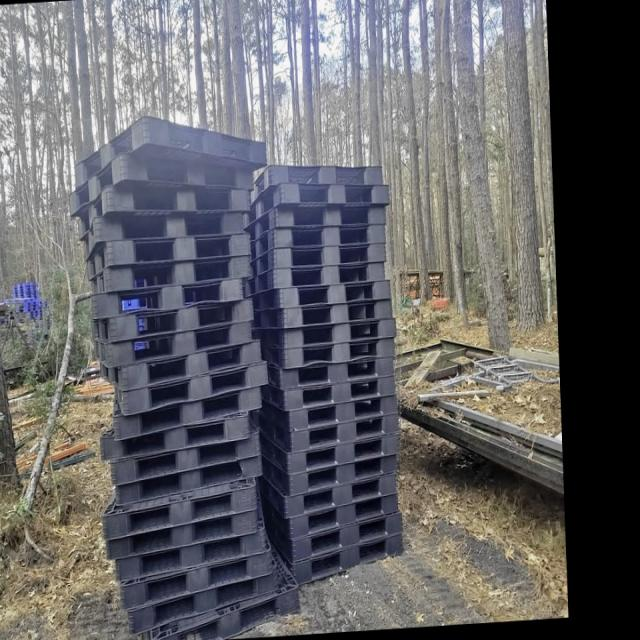non-igps: (64, 144, 256, 222), (71, 109, 271, 177), (125, 556, 283, 638), (74, 180, 257, 247), (116, 542, 276, 614), (80, 200, 249, 268), (112, 514, 271, 586), (100, 475, 260, 545), (138, 576, 303, 640), (82, 228, 255, 289), (107, 425, 265, 491), (112, 356, 273, 420), (97, 334, 267, 394), (103, 502, 262, 564), (91, 314, 258, 372), (110, 384, 266, 446), (98, 403, 255, 464), (89, 293, 260, 348), (113, 450, 267, 511), (86, 249, 253, 303), (258, 508, 406, 568), (263, 529, 406, 590), (241, 179, 392, 236), (89, 272, 248, 326), (254, 488, 404, 545), (246, 408, 402, 460), (260, 450, 399, 507), (241, 199, 390, 252), (254, 470, 401, 523), (256, 430, 404, 479), (246, 219, 389, 269), (236, 240, 391, 286), (246, 160, 386, 210), (258, 370, 403, 418), (239, 259, 389, 304), (248, 295, 397, 339), (241, 276, 395, 317), (246, 312, 400, 353), (257, 333, 399, 375), (256, 355, 400, 395)
